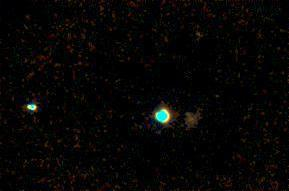star: (185, 19, 215, 49)
